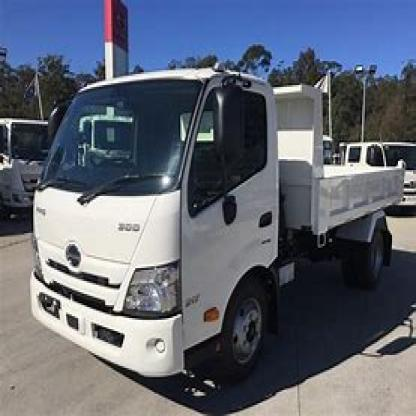dump_truck: (26, 46, 408, 377)
